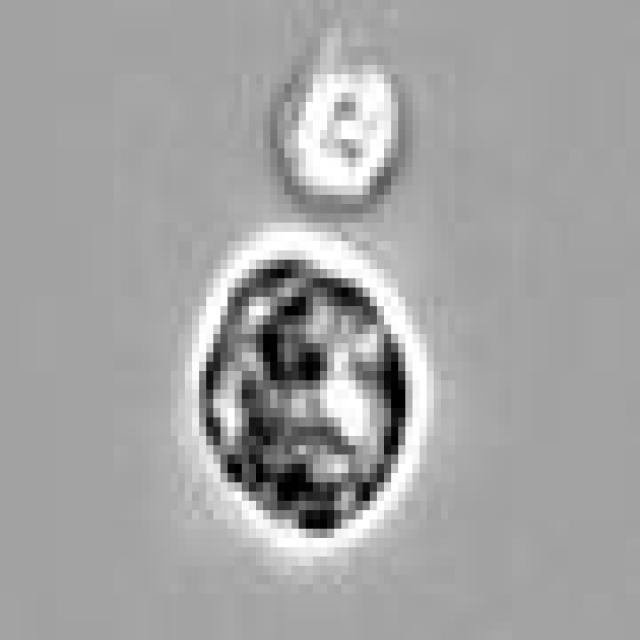Cancer Cell: (199, 241, 420, 529)
WBC: (284, 37, 398, 204)
